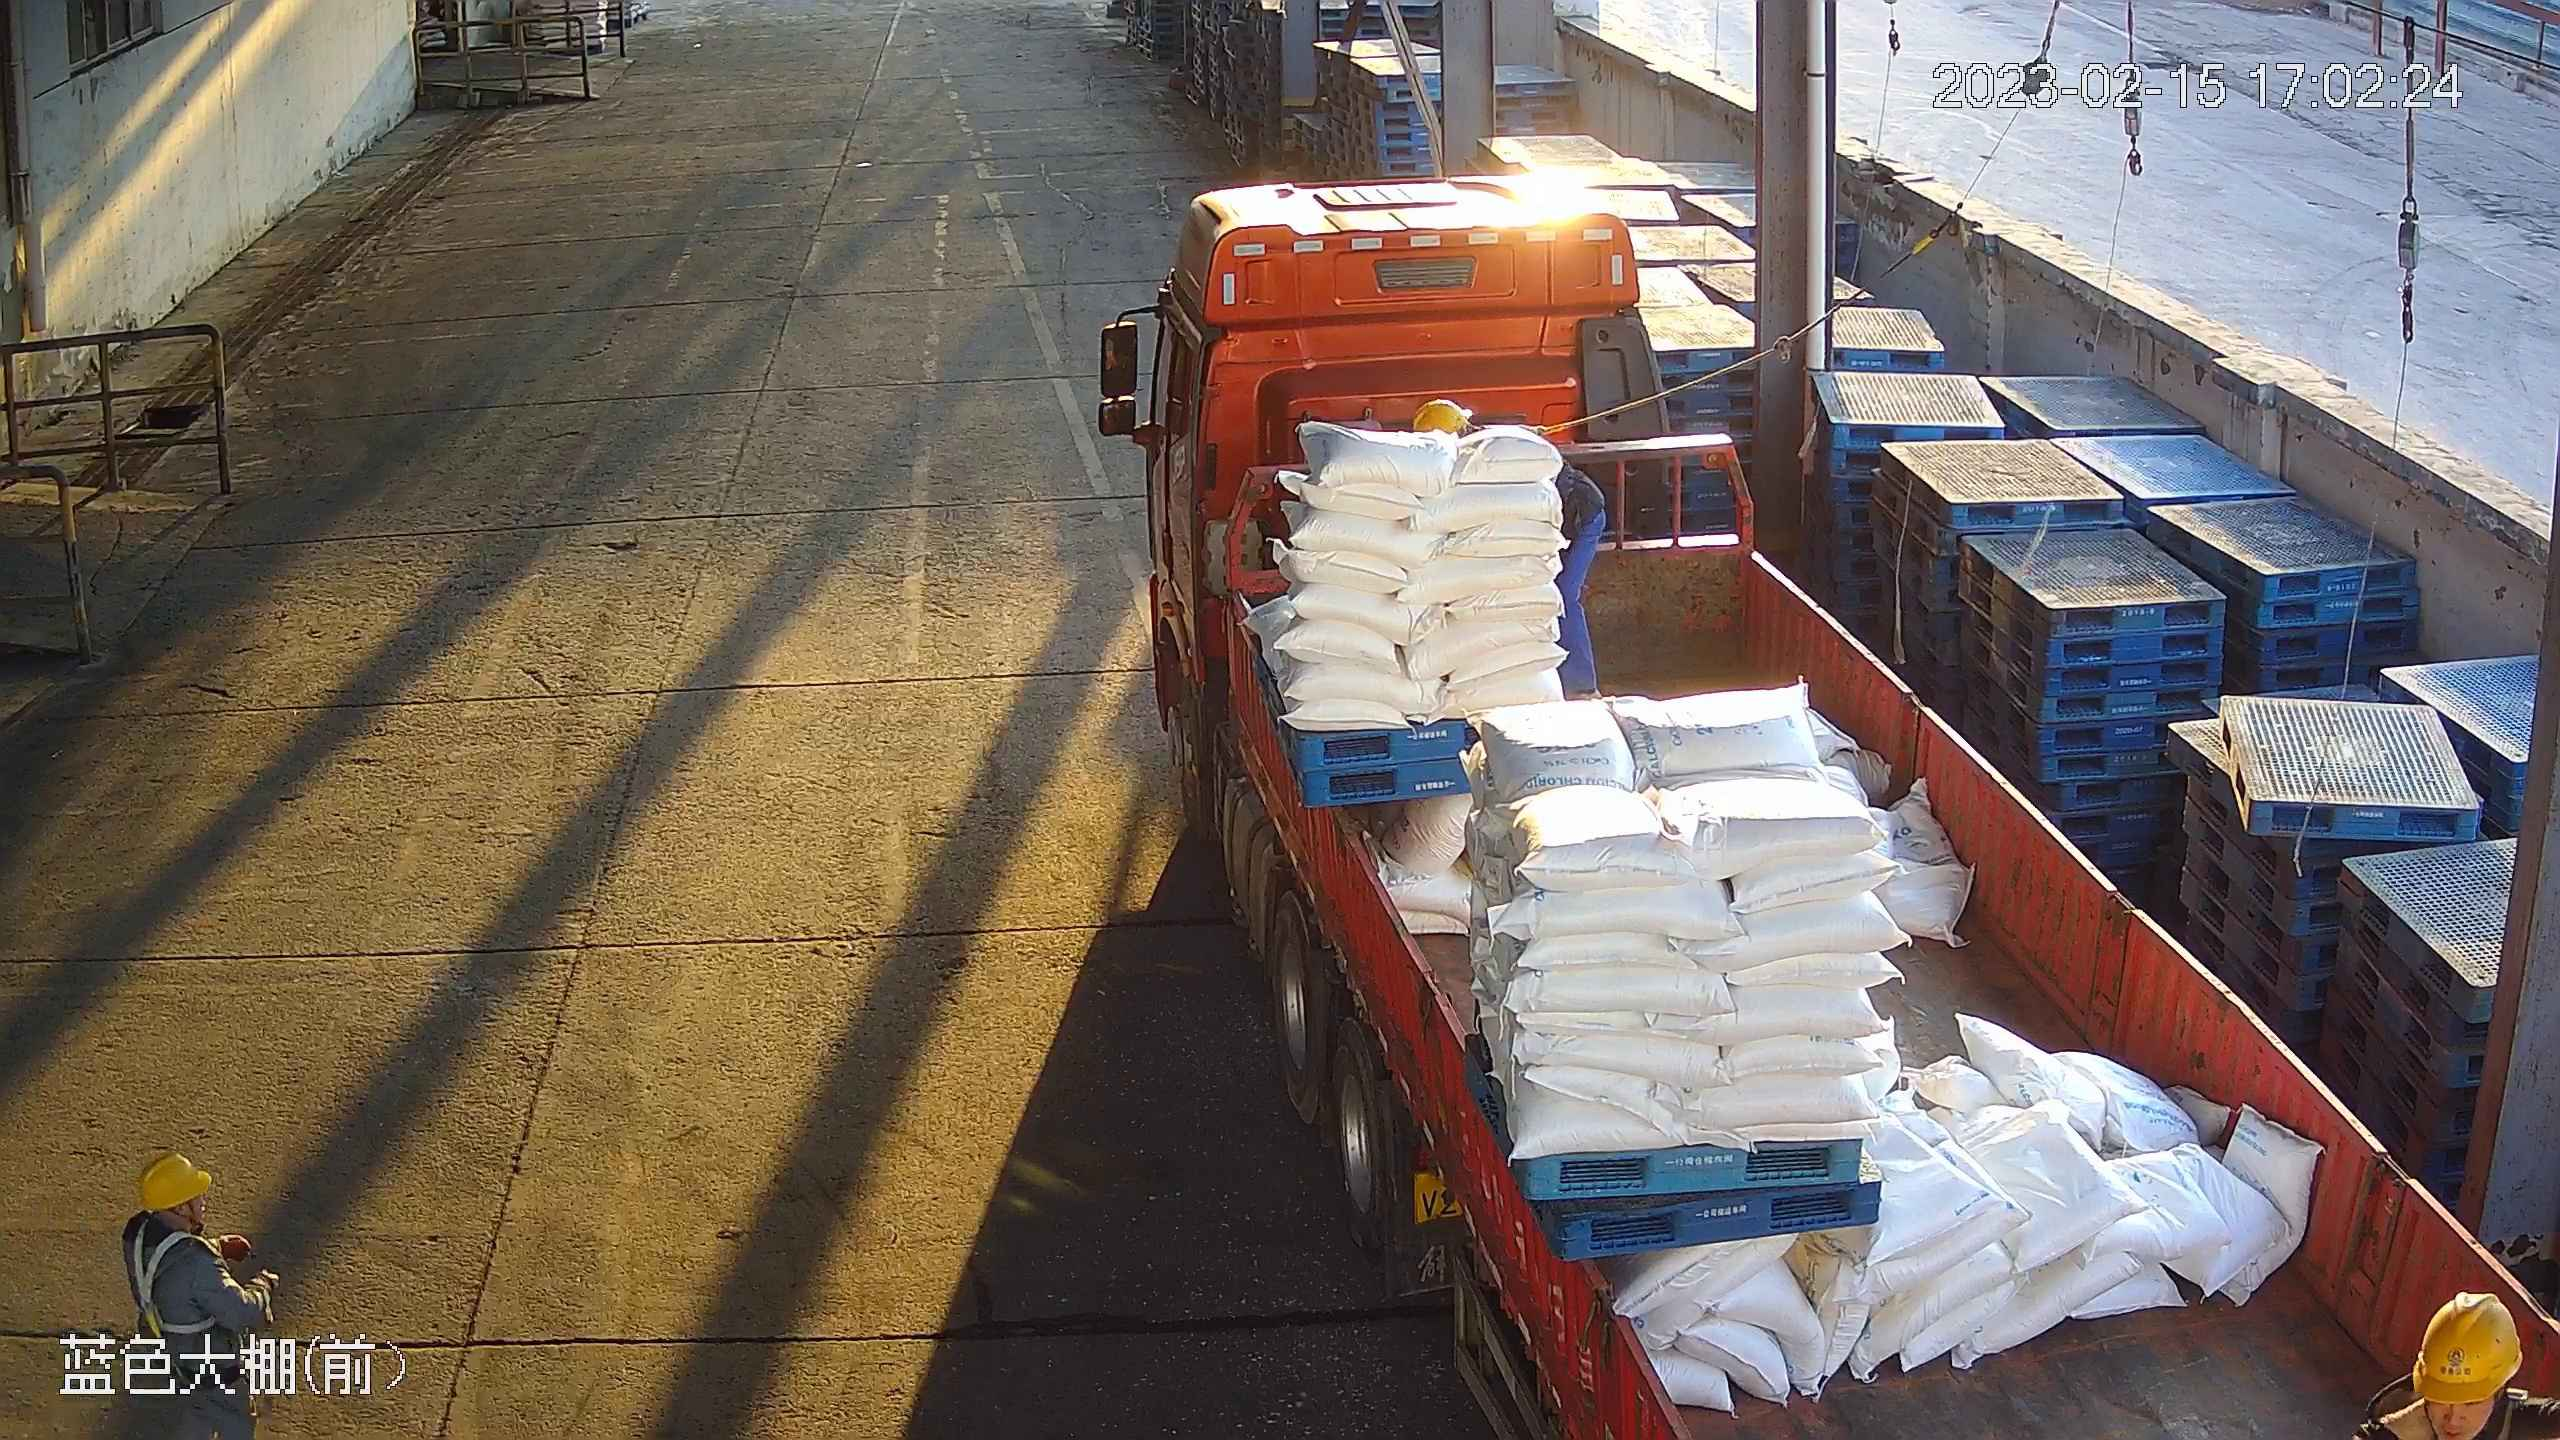belt: (134, 1217, 218, 1334)
head: (123, 1154, 224, 1279)
helmet: (2417, 1291, 2525, 1404), (137, 1154, 214, 1215), (1413, 398, 1469, 431)
people: (123, 1155, 279, 1440)
truck: (1097, 178, 2560, 1440)
